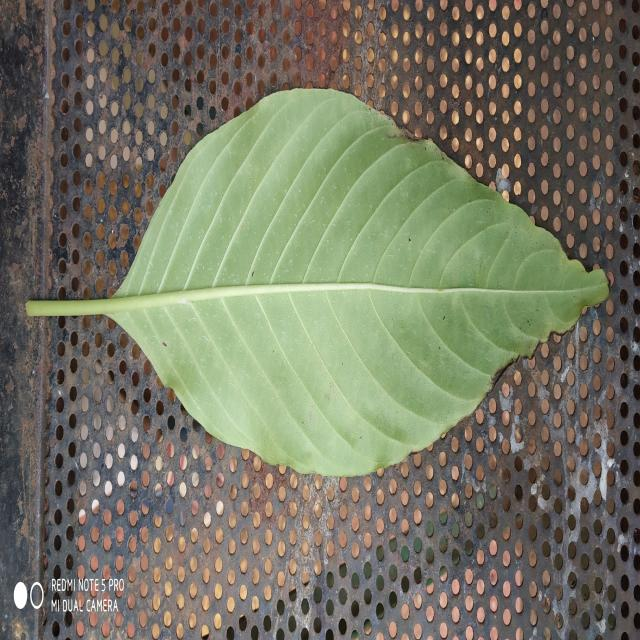malabar_nut: (28, 90, 609, 475)
